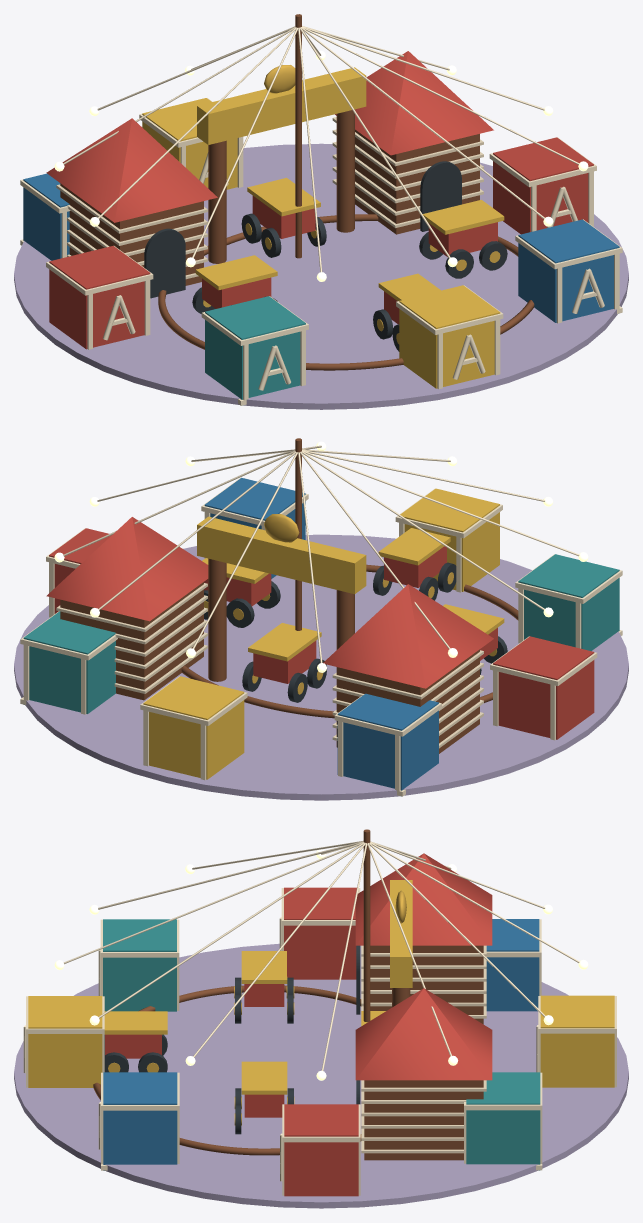
File: toys.glb
3 renders of one model, top to bottom at view 1: azimuth 30°, elevation 25°; view 2: azimuth 150°, elevation 25°; view 3: azimuth 270°, elevation 25°, orthographic.
Bounding box in the file's own units: 5.4 × 2.4 × 5.4.
